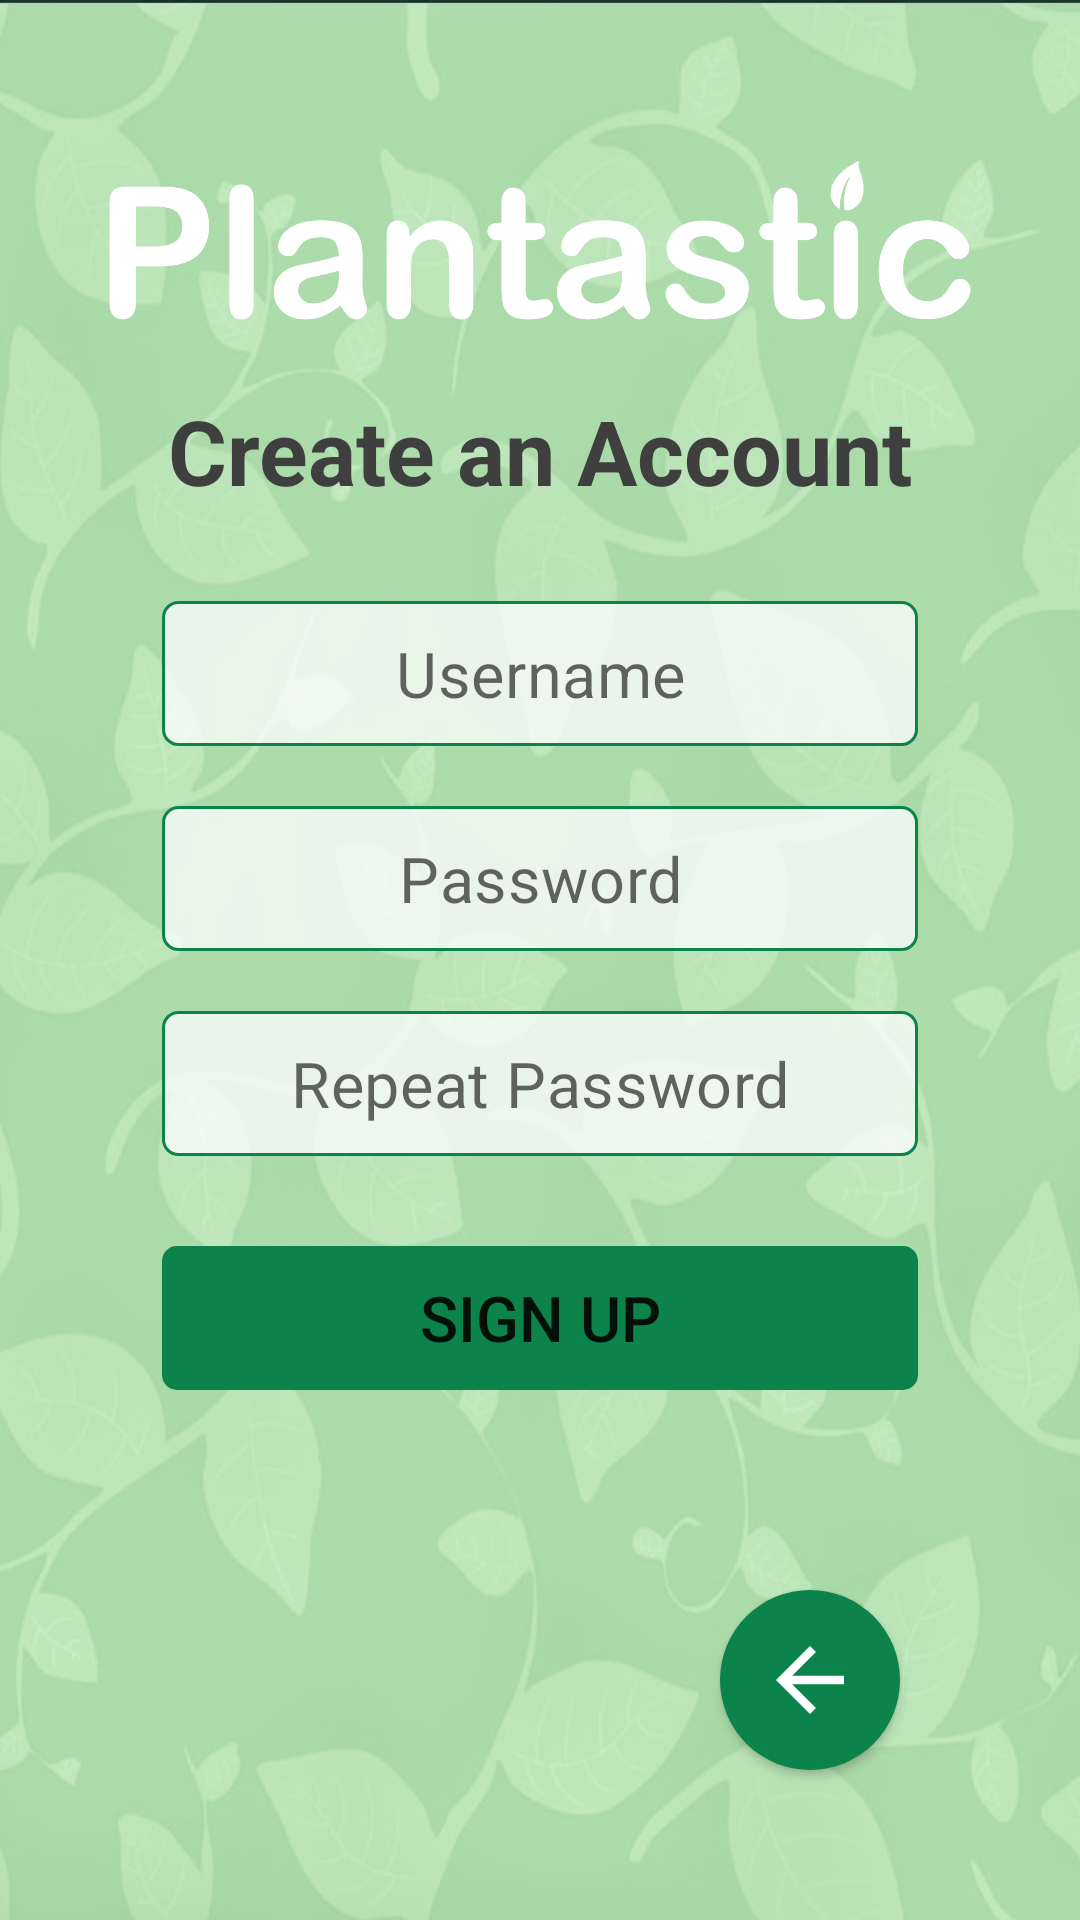

Icons on this 1080px×1920px Android screen, each with the point to tap as point (x, y):
back: point (810, 1680)
